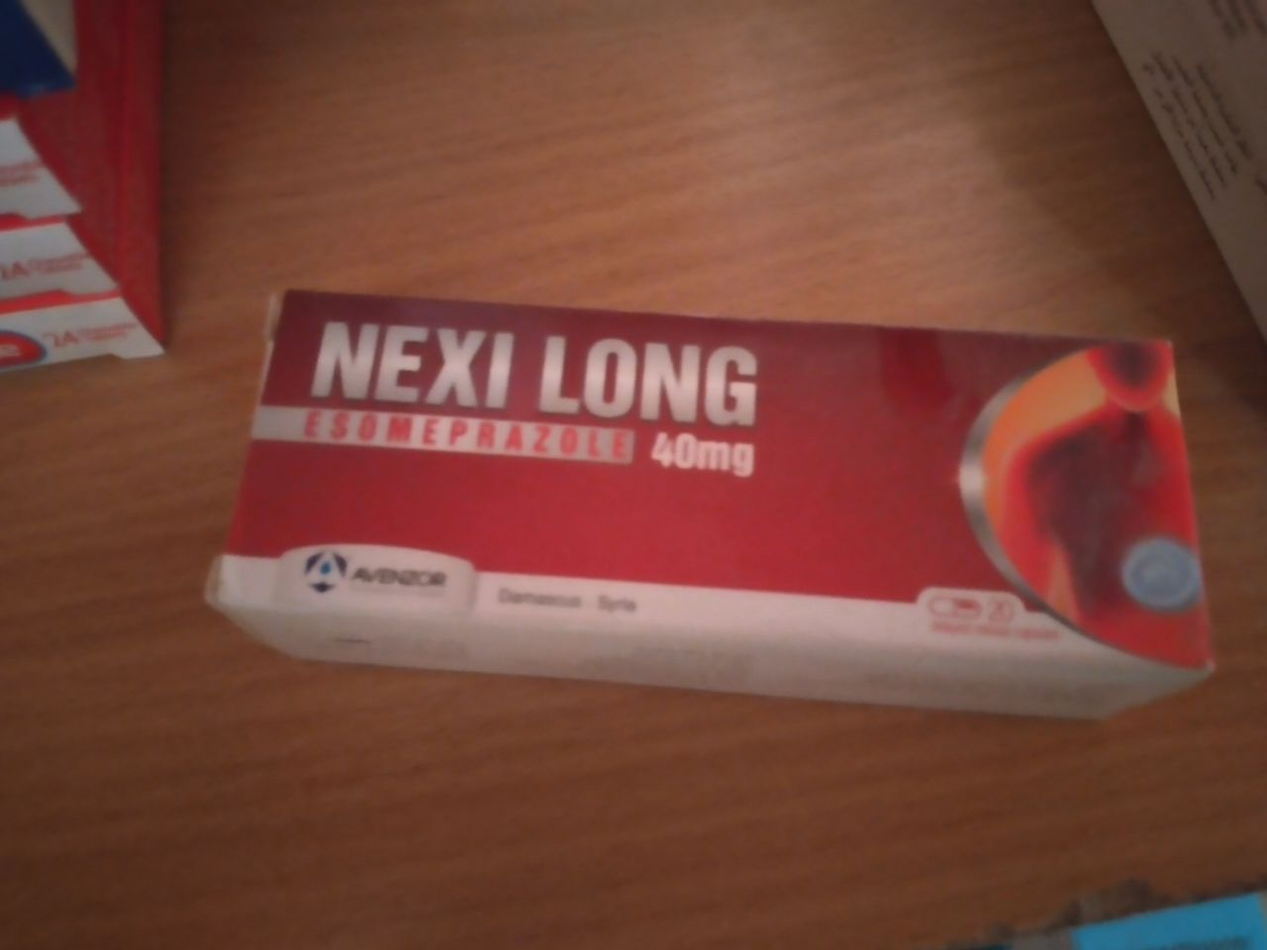Medicine: (213, 280, 1227, 715)
